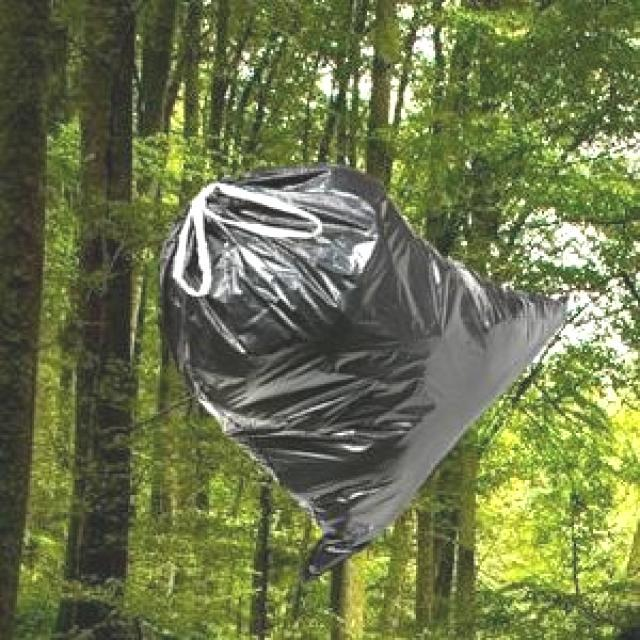Trashbag: (155, 164, 573, 585)
